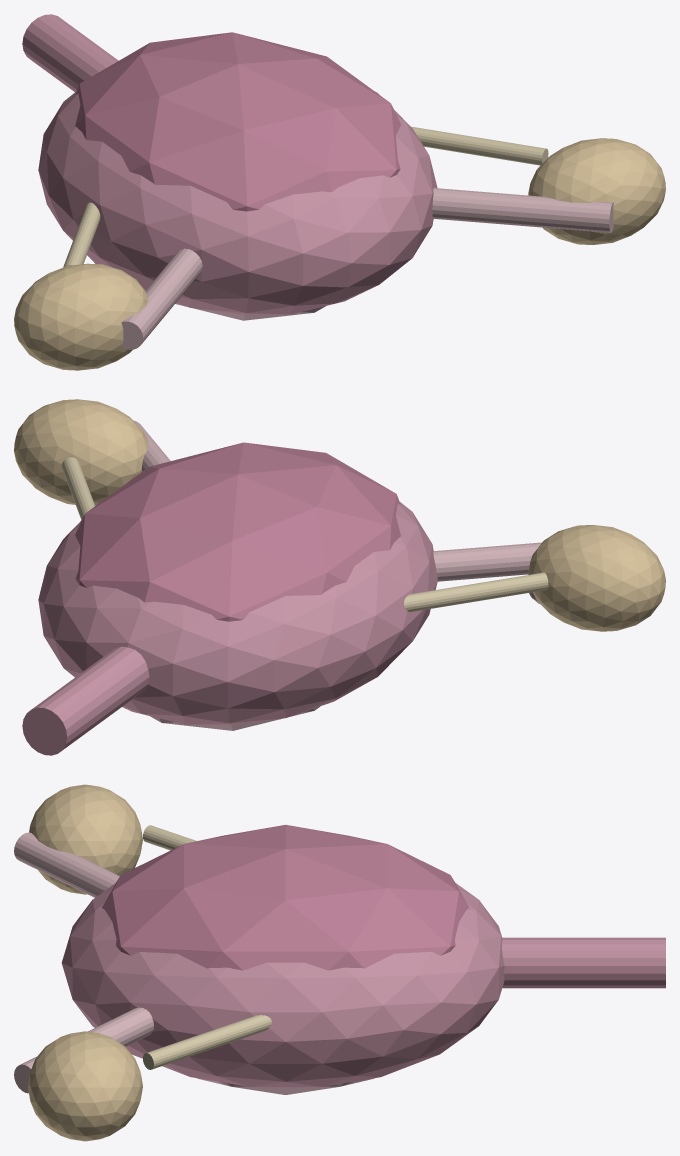
The model's file is female-medium.glb.
The picture shows the model from 3 angles, top to bottom: view 1: azimuth 30°, elevation 25°; view 2: azimuth 150°, elevation 25°; view 3: azimuth 270°, elevation 25°; orthographic projection.
Parts seen in each view (by area): view 1: uterus, myometrium_proxy, left_ovary, right_ovary, right_fallopian_tube, cervix_vaginal_canal_proxy, left_fallopian_tube, right_round_ligament_proxy, left_round_ligament_proxy; view 2: uterus, myometrium_proxy, left_ovary, right_ovary, cervix_vaginal_canal_proxy, left_fallopian_tube, left_round_ligament_proxy, right_round_ligament_proxy, right_fallopian_tube, endometrium_proxy; view 3: uterus, myometrium_proxy, right_ovary, cervix_vaginal_canal_proxy, left_ovary, left_fallopian_tube, right_round_ligament_proxy, right_fallopian_tube, left_round_ligament_proxy, endometrium_proxy.
Boxes of the visible parts, x1,y1,x2,y2 form: uterus: (38,91,437,314); myometrium_proxy: (75,32,400,211); left_ovary: (14,263,148,370); right_ovary: (528,138,665,244); right_fallopian_tube: (432,188,613,232); cervix_vaginal_canal_proxy: (22,14,118,91); left_fallopian_tube: (121,248,202,349); right_round_ligament_proxy: (411,126,548,165); left_round_ligament_proxy: (63,202,100,267); uterus: (38,501,437,724); myometrium_proxy: (75,442,400,621); left_ovary: (528,525,665,631); right_ovary: (14,399,148,505); cervix_vaginal_canal_proxy: (22,646,149,755); left_fallopian_tube: (433,542,541,581); left_round_ligament_proxy: (404,572,548,611); right_round_ligament_proxy: (61,457,94,519); right_fallopian_tube: (133,420,170,471); endometrium_proxy: (150,706,319,730); uterus: (61,882,504,1087); myometrium_proxy: (102,824,469,970); right_ovary: (27,1031,142,1141); cervix_vaginal_canal_proxy: (502,937,665,988); left_ovary: (29,784,142,894); left_fallopian_tube: (14,832,119,897); right_round_ligament_proxy: (143,1015,271,1069); right_fallopian_tube: (14,1007,153,1093); left_round_ligament_proxy: (143,825,196,850); endometrium_proxy: (197,1078,374,1094).
Bounding box in the file's own units: 2.14 × 0.73 × 1.92.
